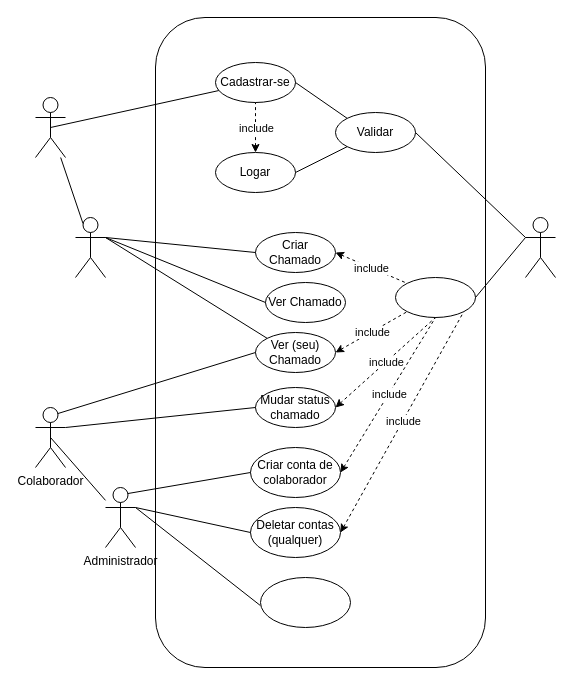
Some shapes in this 579 by 685 pixel diagram are drawn without their labels. The shapes that lost their labels are listed below. From the top down, each one's box as (x1, y1, x2, y2) in pixels, then its label:
(34, 96, 66, 158): Usuário
(74, 216, 106, 278): Usuário Logado
(524, 216, 556, 278): Sistema
(394, 276, 476, 318): Atualizar DB
(260, 576, 350, 628): Ver Chamado (TODOS)
